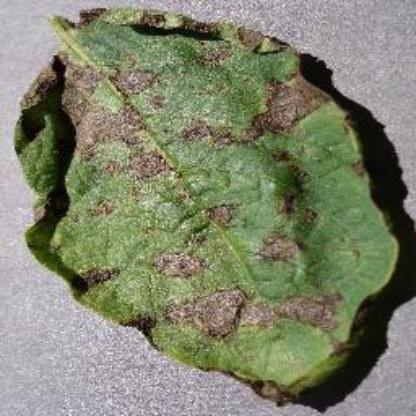Early-Blight: (11, 5, 408, 407)
